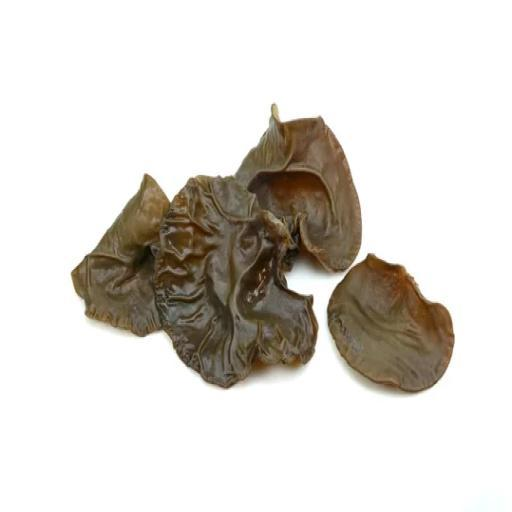mushroom: (68, 71, 360, 407), (330, 239, 455, 410)
